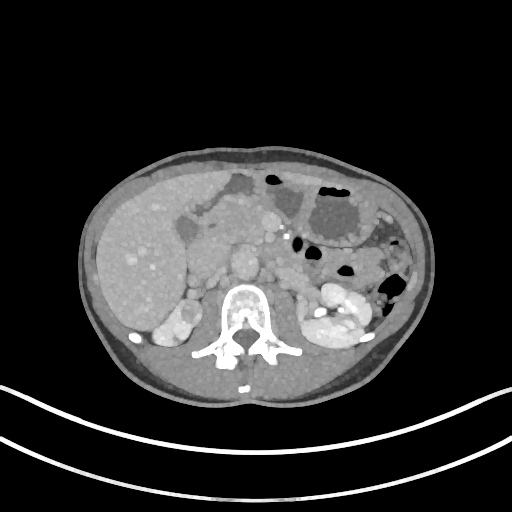Lesion: (179, 304, 201, 325)
